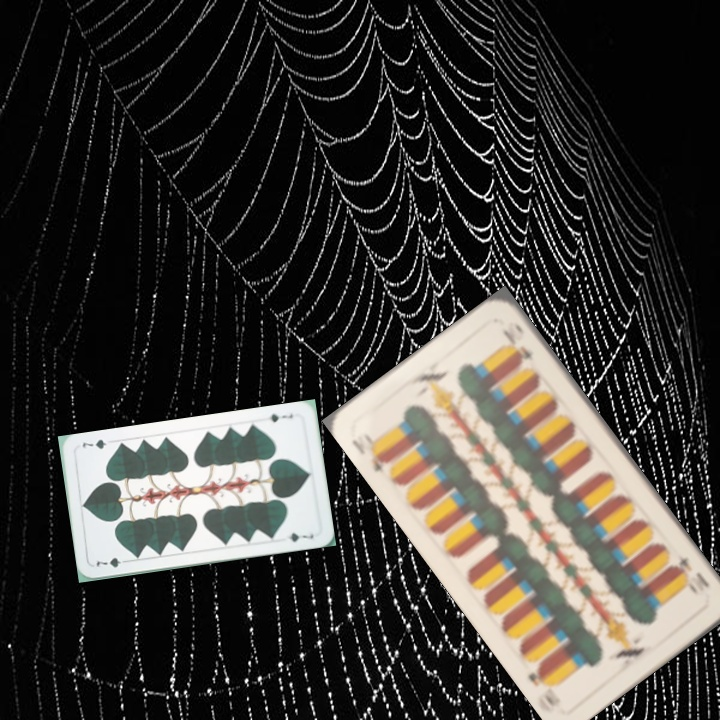E10: (668, 549, 713, 591), (347, 435, 393, 476)
G7: (92, 554, 131, 570), (260, 410, 295, 425)
